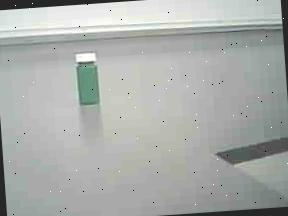Bottle C: (65, 44, 111, 115)
